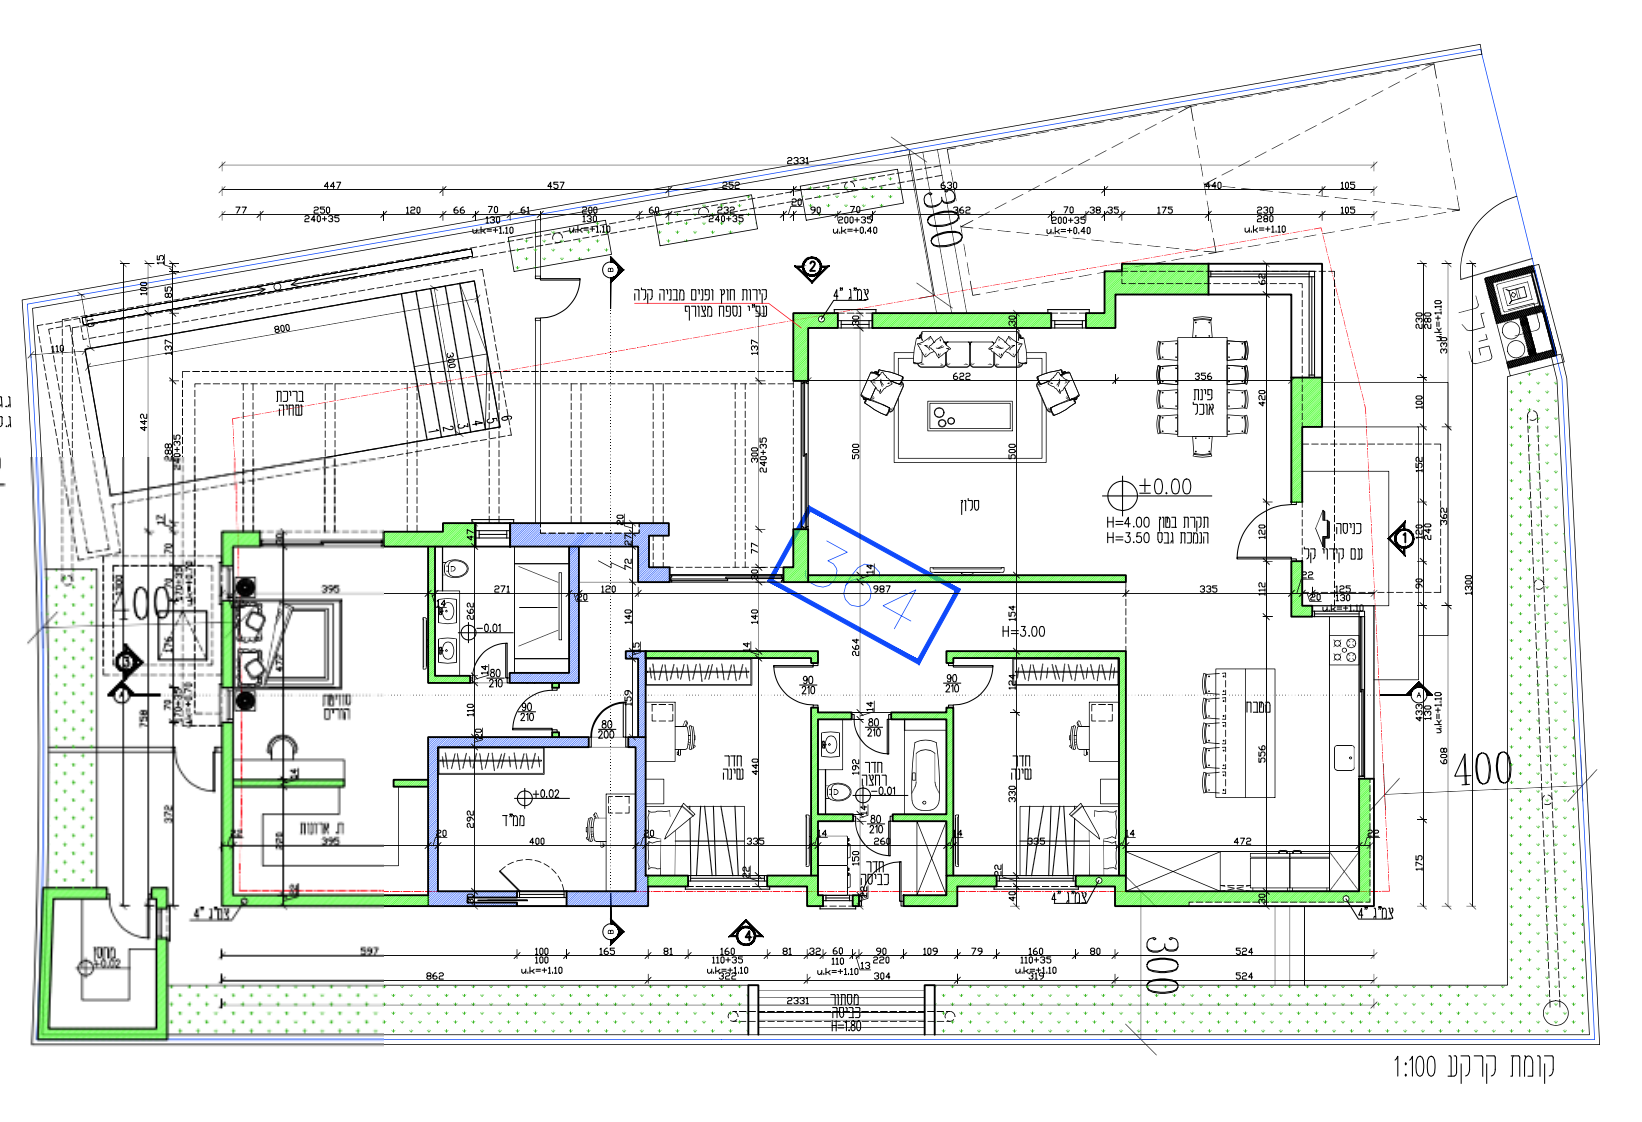door: (1233, 500, 1288, 567), (955, 660, 996, 711), (766, 661, 807, 711), (507, 686, 549, 733), (585, 698, 630, 735), (468, 638, 513, 673)
window: (792, 379, 809, 529), (669, 567, 782, 582), (996, 875, 1076, 889), (687, 876, 769, 889), (475, 518, 509, 548), (1051, 310, 1086, 329), (838, 310, 872, 329)
